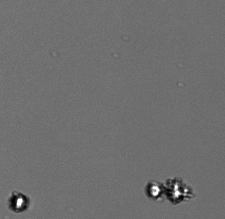Living Cell: (166, 177, 190, 204), (9, 192, 30, 213), (146, 180, 163, 200)
